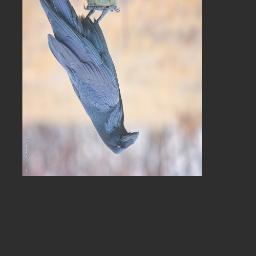Crow: (28, 0, 141, 156)
